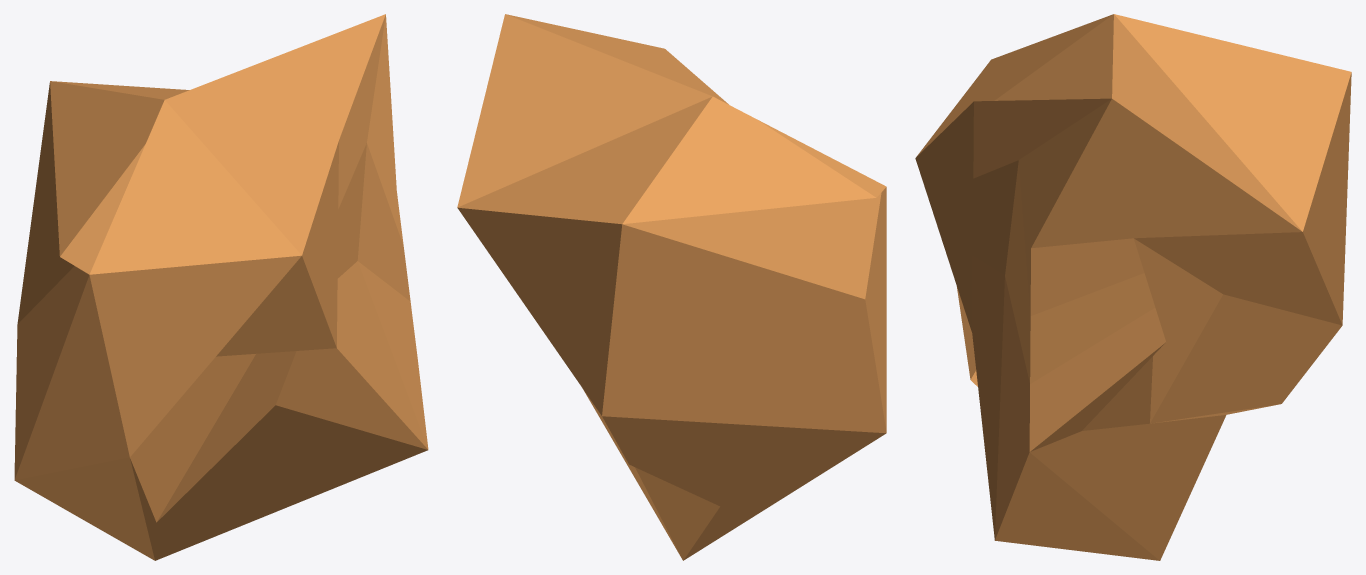
Rendered from chunk1.fbx.
3 renders of one model, left to right at view 1: azimuth 30°, elevation 25°; view 2: azimuth 150°, elevation 25°; view 3: azimuth 270°, elevation 25°, orthographic. The views are drawn at different scales.
Visible parts, largest first — view 1: Icosphere; view 2: Icosphere; view 3: Icosphere.
Boxes of the visible parts, x1,y1,x2,y2 form: Icosphere: (14, 14, 428, 560); Icosphere: (457, 14, 886, 560); Icosphere: (915, 14, 1351, 560).
Size of the model in its own units: 216 by 273 by 187.
